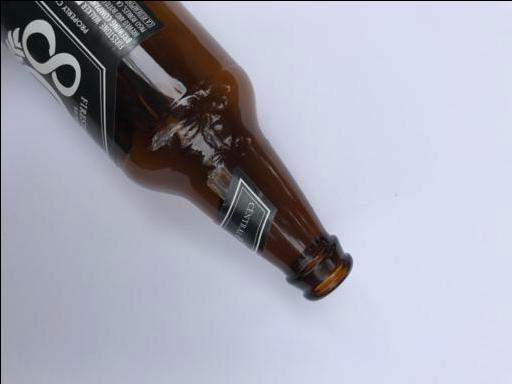alcohol: (1, 1, 353, 302)
glass: (1, 1, 353, 302)
sodocalcique: (1, 1, 353, 302)
